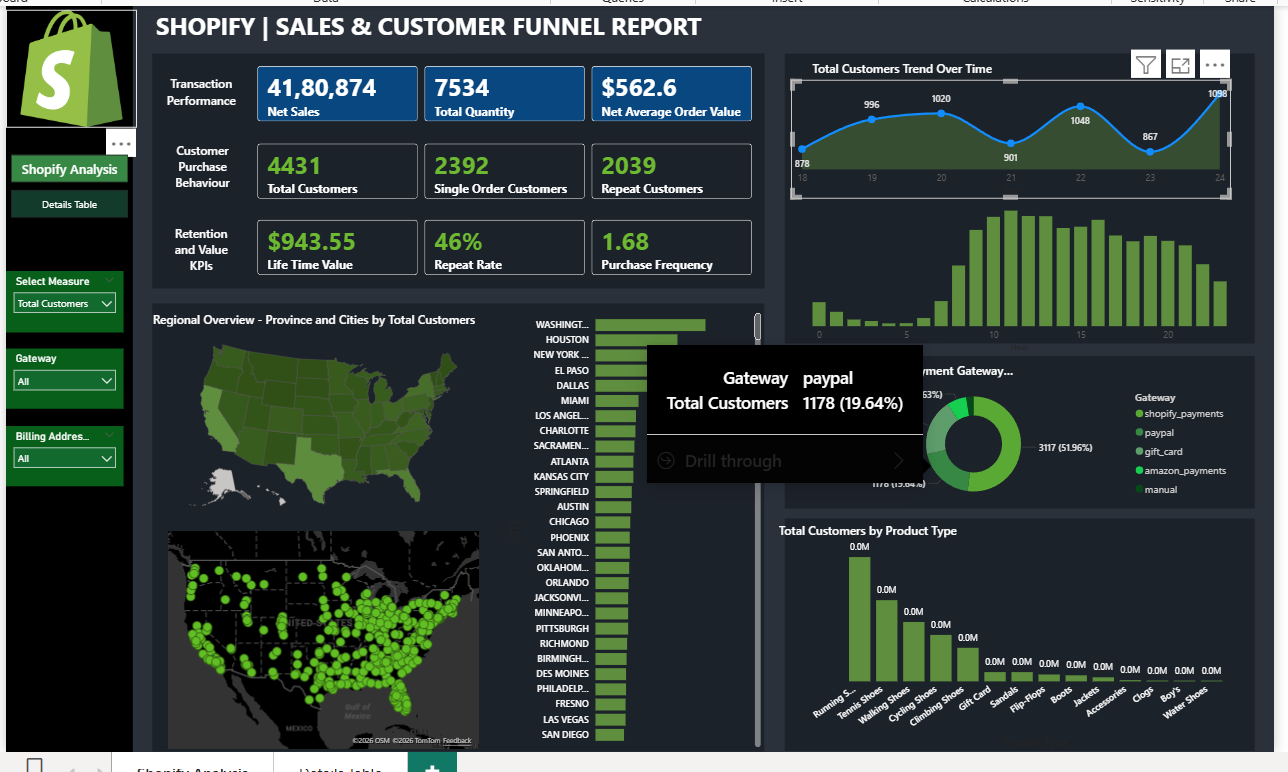

The page's visual inventory and layout, read from the dashboard file:
{"tool":"powerbi","page":{"name":"Shopify Analysis","canvas":[1700,1000],"ordinal":0},"visuals":[{"type":"shape","box":[0,0,170,1000.3],"z":0},{"type":"textbox","box":[196,0,765.8,63.7],"z":1000},{"type":"shape","box":[196,63.7,821,315],"z":2000},{"type":"cardVisual","fields":{"Data":["shopify_sales.Net Sales","shopify_sales.Total Quantity","shopify_sales.Net Average Order Value"]},"box":[320,63.7,697.1,108.9],"z":3000},{"type":"cardVisual","fields":{"Data":["shopify_sales.Transaction Perf"]},"box":[184.3,55.3,155.8,117.3],"z":4000},{"type":"cardVisual","fields":{"Data":["shopify_sales.Total Customers","shopify_sales.Single Order Customers","shopify_sales.Repeat Customers"]},"box":[320,166.7,697.1,108.9],"z":5000},{"type":"cardVisual","fields":{"Data":["shopify_sales.Customer Purchase Behaviour"]},"box":[186,138.2,155.8,147.5],"z":6000},{"type":"cardVisual","fields":{"Data":["shopify_sales.Life Time Value","shopify_sales.Repeat Rate","shopify_sales.Purchase Frequency"]},"box":[320,269.8,697.1,108.9],"z":7000},{"type":"cardVisual","fields":{"Data":["shopify_sales.Retention and Value KPIs"]},"box":[184.3,251.3,155.8,147.5],"z":8000},{"type":"shape","box":[195.9,399.1,820.4,600.5],"z":9000},{"type":"shapeMap","fields":{"Value":["shopify_sales.Total Customers"],"Category":["shopify_sales.Billing Address Province"]},"box":[197.7,437.3,455.8,249.7],"z":10000},{"type":"slicer","fields":{"Values":["Select Measure.Select Measure"]},"box":[0,355.2,157.5,82.1],"z":11000},{"type":"azureMap","fields":{"Category":["shopify_sales.Location"]},"box":[212.8,698.7,425.6,301.6],"z":12000},{"type":"clusteredBarChart","fields":{"Y":["shopify_sales.Total Customers"],"Category":["shopify_sales.CITY"]},"box":[668.6,398.8,348.5,599.9],"z":13000},{"type":"cardVisual","fields":{"Data":["shopify_sales.Map Title"]},"box":[157.5,377,511.1,82.1],"z":14000},{"type":"shape","box":[1043.9,63.7,630,388.7],"z":15000},{"type":"areaChart","fields":{"Y":["shopify_sales.Total Customers"],"Category":["shopify_sales.Invoice Date.Variation.Date Hierarchy.Day"]},"box":[1052.3,98.9,589.8,159.2],"z":16000},{"type":"columnChart","fields":{"Y":["shopify_sales.Total Customers"],"Category":["shopify_sales.Hour"]},"box":[1075.7,243,566.4,226.2],"z":17000},{"type":"cardVisual","fields":{"Data":["shopify_sales.Trend Title"]},"box":[1043.9,51.9,315,62],"z":18000},{"type":"shape","box":[1043.9,469.2,630,204.4],"z":19000},{"type":"donutChart","fields":{"Y":["shopify_sales.Total Customers"],"Category":["shopify_sales.Gateway"]},"box":[1075.7,501,574.7,172.6],"z":20000},{"type":"cardVisual","fields":{"Data":["shopify_sales.Gateway Title"]},"box":[1007,459.1,387.1,57],"z":21000},{"type":"shape","box":[1043.9,687,630,311.7],"z":22000},{"type":"columnChart","fields":{"Y":["shopify_sales.Total Customers"],"Category":["shopify_sales.Product Type"]},"box":[1075.7,700.4,574.7,299.9],"z":23000},{"type":"cardVisual","fields":{"Data":["shopify_sales.Product Title"]},"box":[961.8,673.6,387.1,57],"z":24000},{"type":"slicer","fields":{"Values":["shopify_sales.Gateway"]},"box":[0,459.1,157.5,80.4],"z":25000},{"type":"slicer","fields":{"Values":["shopify_sales.Billing Address Province"]},"box":[0,563,157.5,80.4],"z":26000},{"type":"image","box":[0,5,175.9,157.5],"z":27000},{"type":"pageNavigator","box":[6.7,199.4,157.5,85.5],"z":28000}]}

Visuals, with their boxes on the page's 1700x1000 design canvas (x1, y1, x2, y2). These are canvas units, not pixel positions in the 1288x772 screenshot, which may show the page scaled, cropped or inside an application window:
shape: box(0, 0, 170, 1000)
textbox: box(196, 0, 962, 64)
shape: box(196, 64, 1017, 379)
cardVisual - shopify_sales.Net Sales x shopify_sales.Total Quantity: box(320, 64, 1017, 173)
cardVisual - shopify_sales.Transaction Perf: box(184, 55, 340, 173)
cardVisual - shopify_sales.Total Customers x shopify_sales.Single Order Customers: box(320, 167, 1017, 276)
cardVisual - shopify_sales.Customer Purchase Behaviour: box(186, 138, 342, 286)
cardVisual - shopify_sales.Life Time Value x shopify_sales.Repeat Rate: box(320, 270, 1017, 379)
cardVisual - shopify_sales.Retention and Value KPIs: box(184, 251, 340, 399)
shape: box(196, 399, 1016, 1000)
shapeMap - shopify_sales.Total Customers x shopify_sales.Billing Address Province: box(198, 437, 654, 687)
slicer - Select Measure.Select Measure: box(0, 355, 158, 437)
azureMap - shopify_sales.Location: box(213, 699, 638, 1000)
clusteredBarChart - shopify_sales.Total Customers x shopify_sales.CITY: box(669, 399, 1017, 999)
cardVisual - shopify_sales.Map Title: box(158, 377, 669, 459)
shape: box(1044, 64, 1674, 452)
areaChart - shopify_sales.Total Customers x shopify_sales.Invoice Date.Variation.Date Hierarchy.Day: box(1052, 99, 1642, 258)
columnChart - shopify_sales.Total Customers x shopify_sales.Hour: box(1076, 243, 1642, 469)
cardVisual - shopify_sales.Trend Title: box(1044, 52, 1359, 114)
shape: box(1044, 469, 1674, 674)
donutChart - shopify_sales.Total Customers x shopify_sales.Gateway: box(1076, 501, 1650, 674)
cardVisual - shopify_sales.Gateway Title: box(1007, 459, 1394, 516)
shape: box(1044, 687, 1674, 999)
columnChart - shopify_sales.Total Customers x shopify_sales.Product Type: box(1076, 700, 1650, 1000)
cardVisual - shopify_sales.Product Title: box(962, 674, 1349, 731)
slicer - shopify_sales.Gateway: box(0, 459, 158, 540)
slicer - shopify_sales.Billing Address Province: box(0, 563, 158, 643)
image: box(0, 5, 176, 162)
pageNavigator: box(7, 199, 164, 285)
